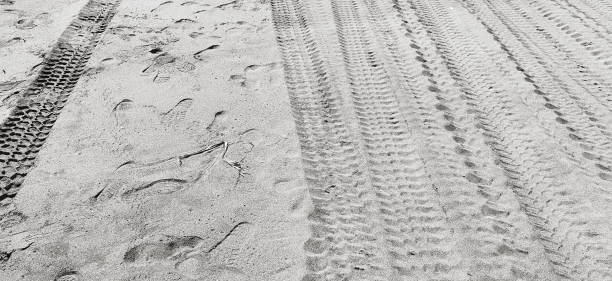vehicle_track: (421, 1, 609, 279), (464, 1, 611, 180), (0, 0, 118, 204)
